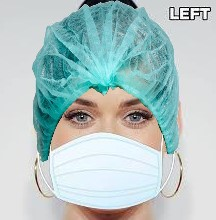with_mask_and_cap: (34, 5, 178, 212)
